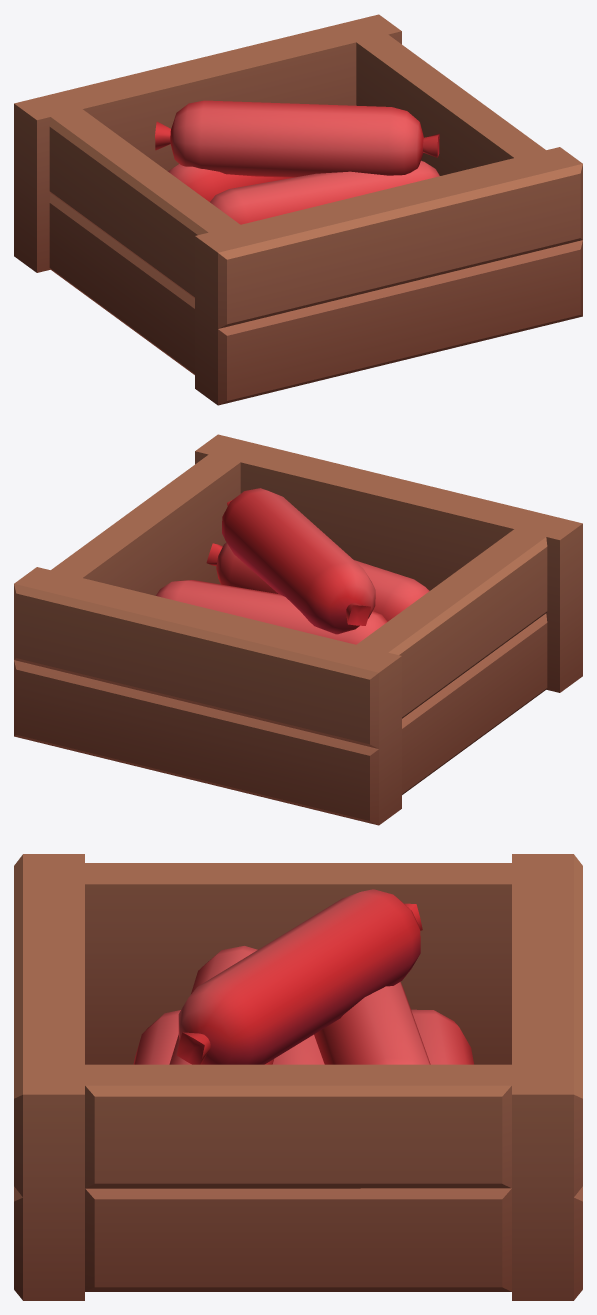
File: crate_pepperoni.obj
3 renders of one model, top to bottom at view 1: azimuth 30°, elevation 25°; view 2: azimuth 150°, elevation 25°; view 3: azimuth 270°, elevation 25°, orthographic. The views are drawn at different scales.
Parts seen in each view (by area): view 1: crate_pepperoni_Cube.443; view 2: crate_pepperoni_Cube.443; view 3: crate_pepperoni_Cube.443.
Boxes of the visible parts, x1,y1,x2,y2 form: crate_pepperoni_Cube.443: [14, 14, 582, 405]; crate_pepperoni_Cube.443: [14, 434, 582, 825]; crate_pepperoni_Cube.443: [14, 854, 582, 1300].
Bounding box in the file's own units: 2 × 0.9352 × 2.
Materials: 1 (1 with a texture image).
